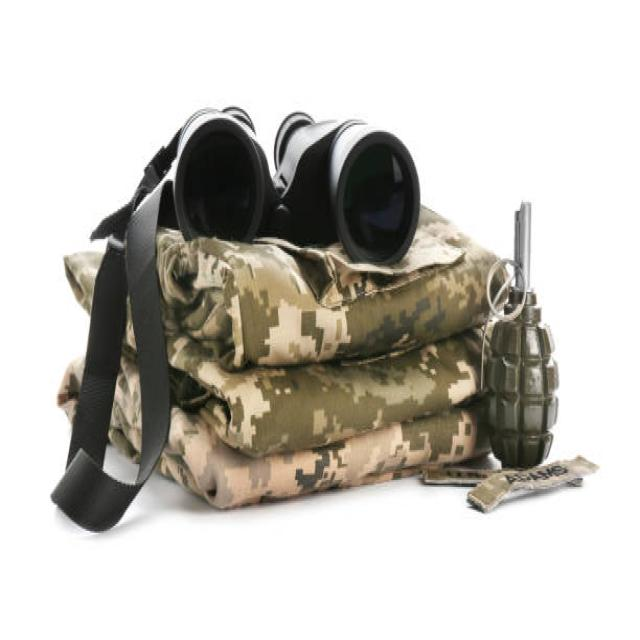grenade: (484, 199, 564, 470)
